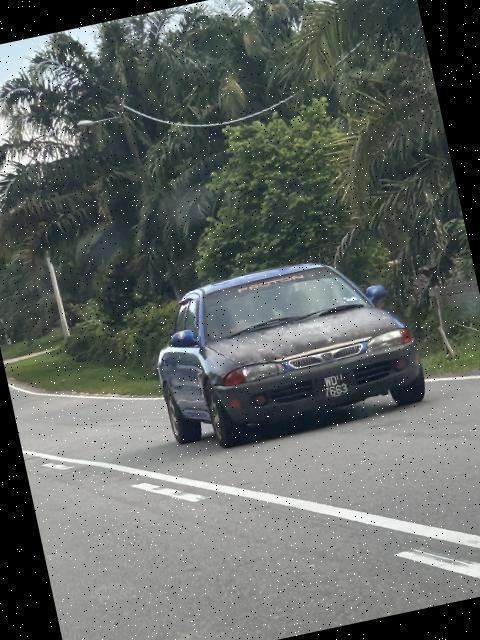License_Plate: (312, 367, 359, 407)
car: (137, 242, 431, 459)
